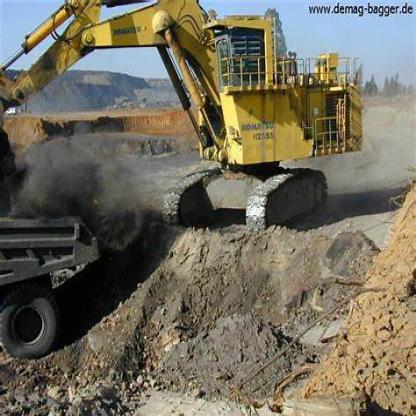excavator: (4, 4, 368, 272)
